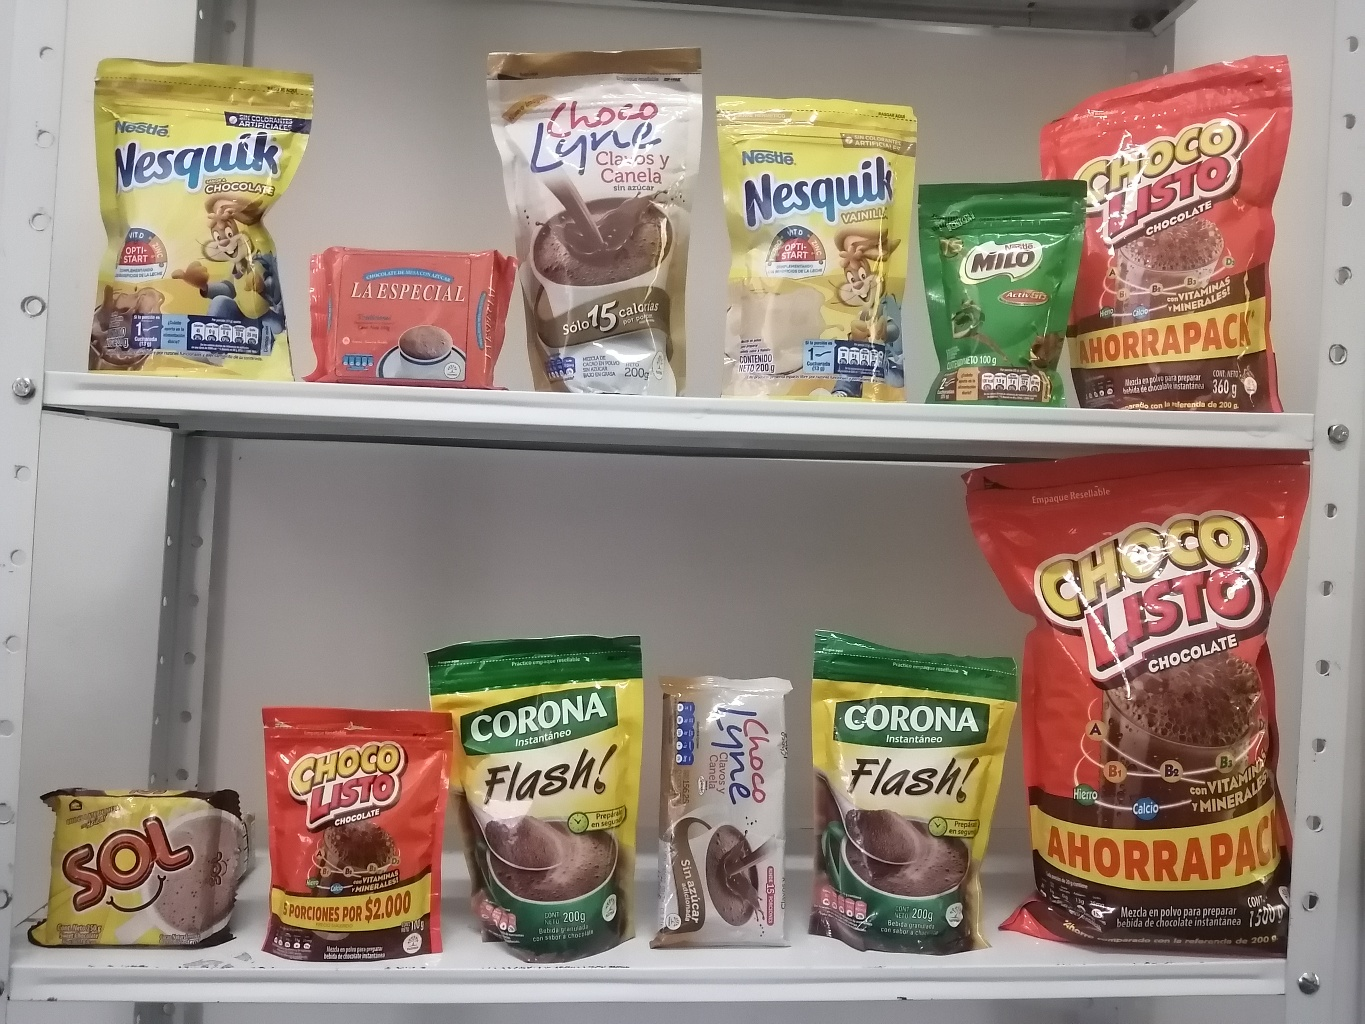COL0170103DYP1,500: (950, 442, 1326, 993)
COL0170103DYP36000: (1025, 43, 1331, 413)
COL0170203DYP10000: (901, 167, 1105, 406)
COL0170303DYP20000: (51, 19, 331, 393)
COL0170306DYP20000: (708, 79, 926, 402)
